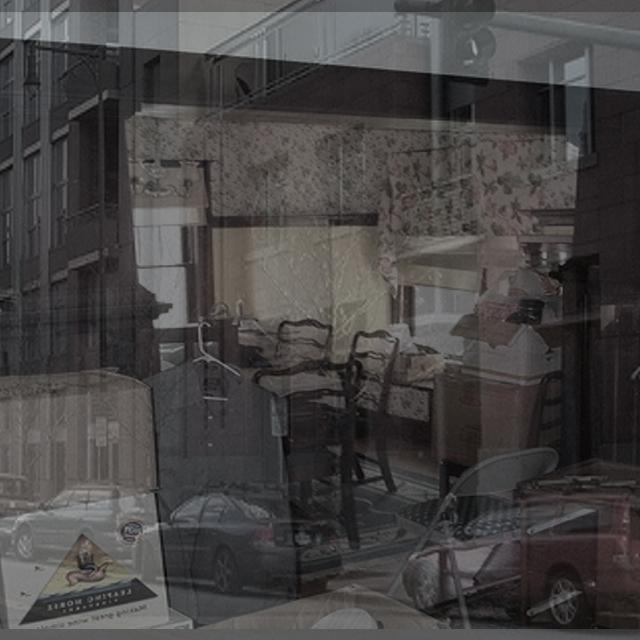car: (402, 488, 640, 633), (139, 483, 344, 599), (15, 480, 174, 572), (0, 463, 44, 559)
chair: (384, 446, 559, 624), (243, 359, 364, 569), (300, 331, 408, 503)
